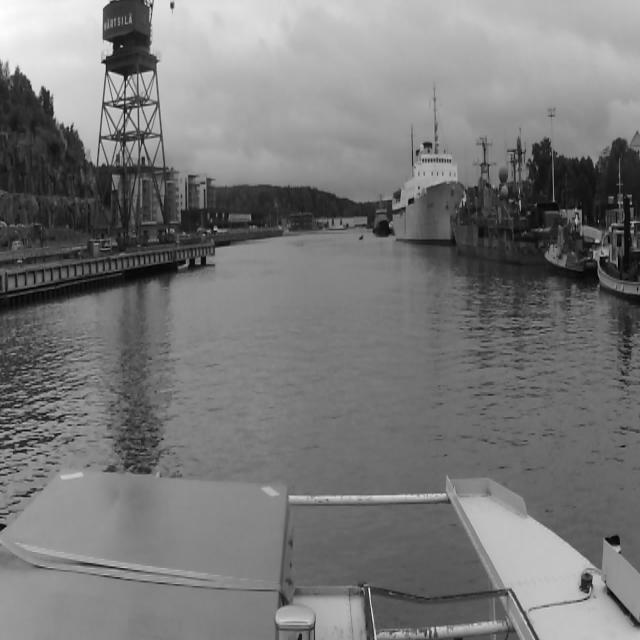ship: (455, 127, 545, 261), (394, 82, 454, 248), (594, 156, 640, 298), (549, 205, 591, 281), (374, 196, 388, 238), (357, 230, 365, 246), (359, 234, 364, 241)
